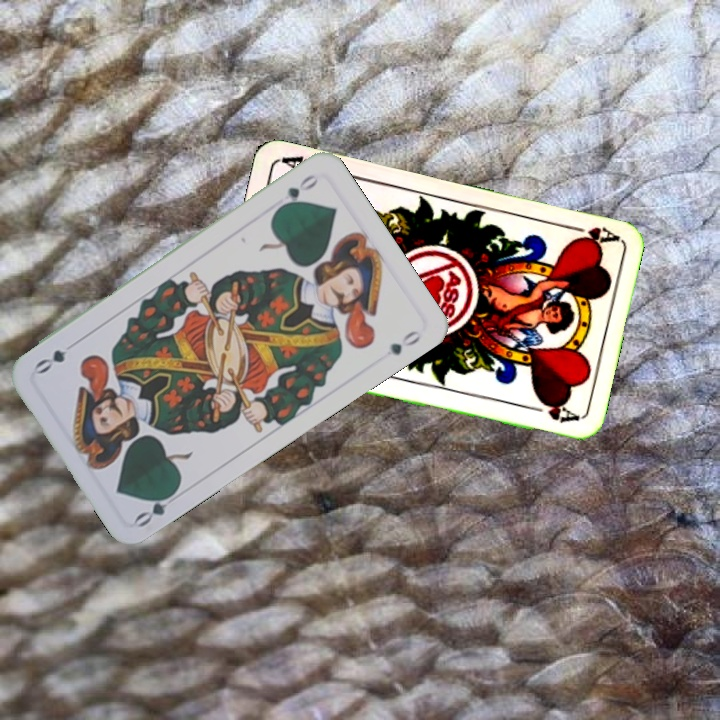GO: (131, 484, 181, 530), (272, 170, 321, 213)
HA: (561, 220, 620, 249)
